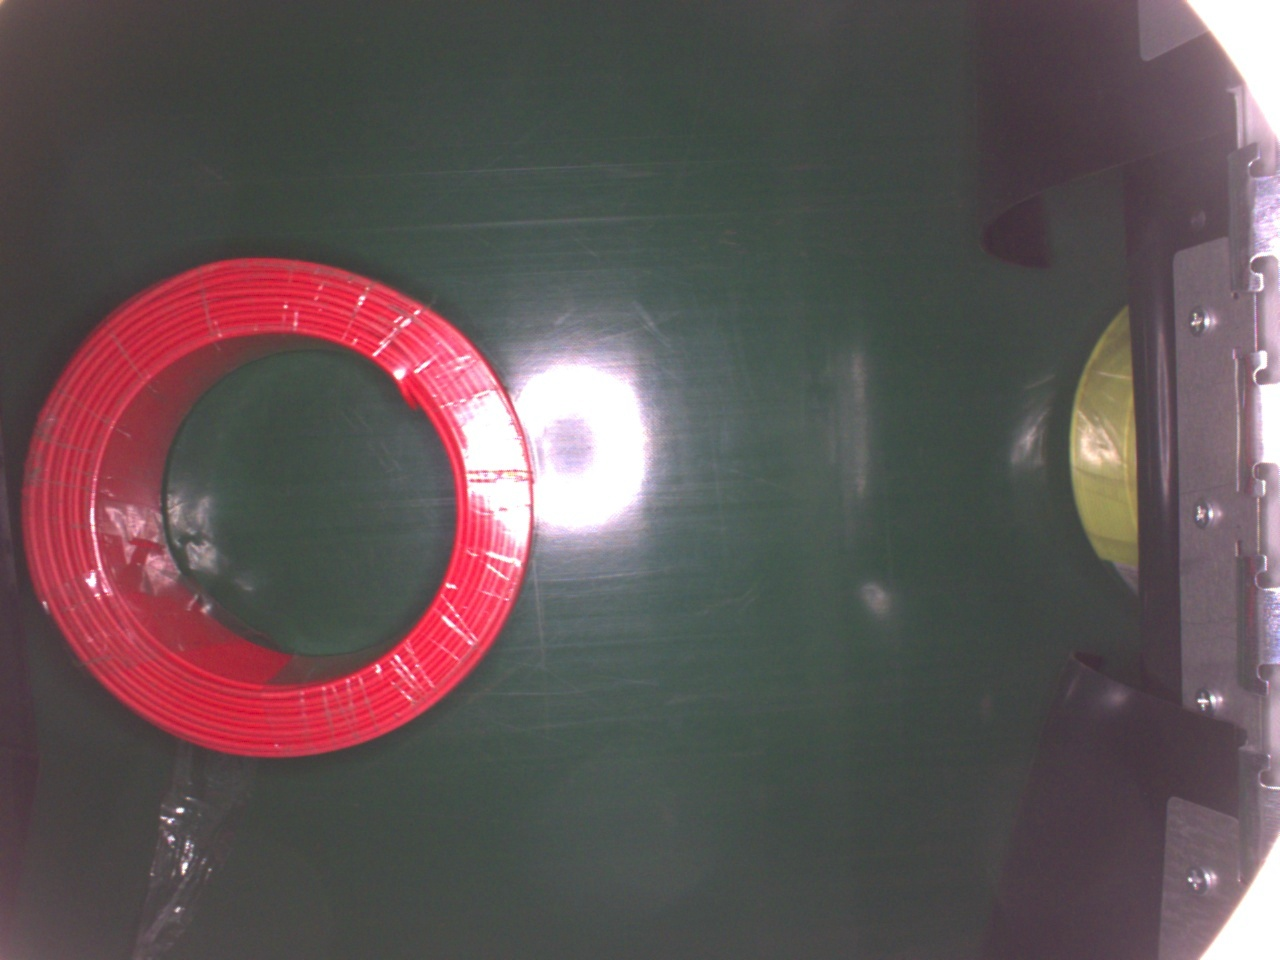red: (18, 253, 533, 760)
